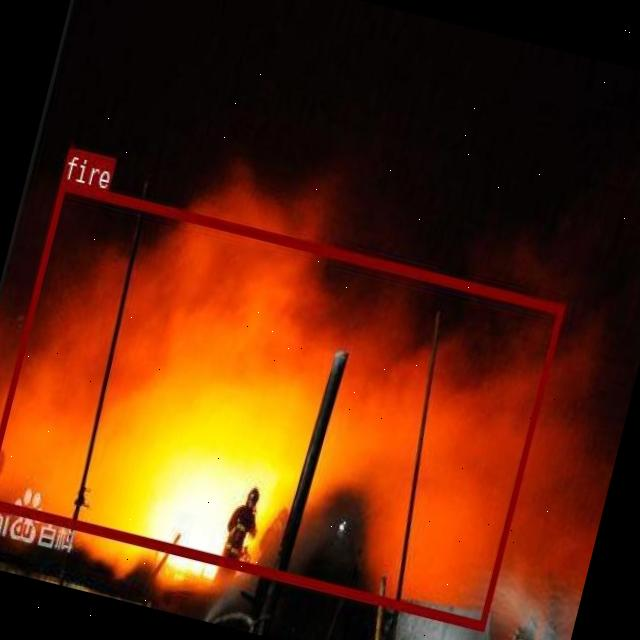fire: (0, 178, 564, 629)
